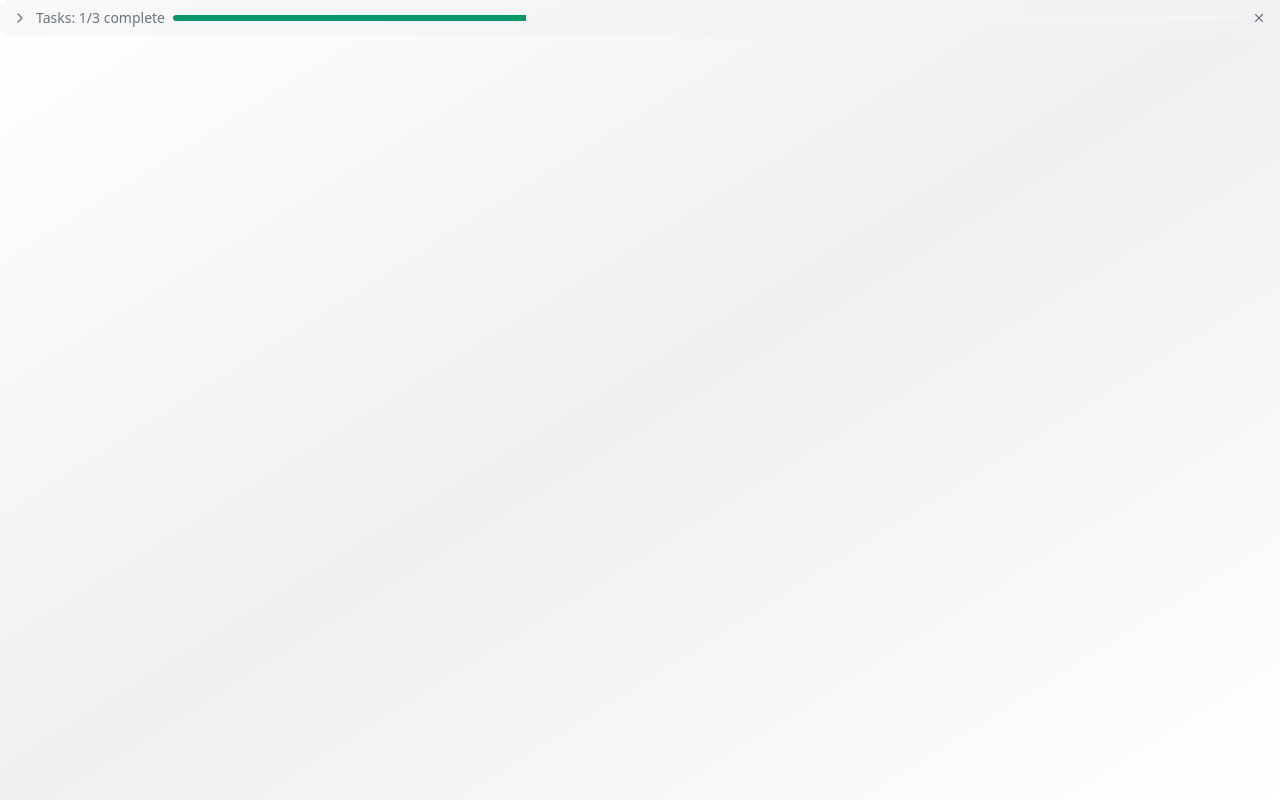
Test: SessionTodoDisplay › shows collapsed progress, expands into status groups, and omits cancelled todos
Click the button "Tasks: 1/3 complete" at (88, 18), box [12, 8, 165, 28]
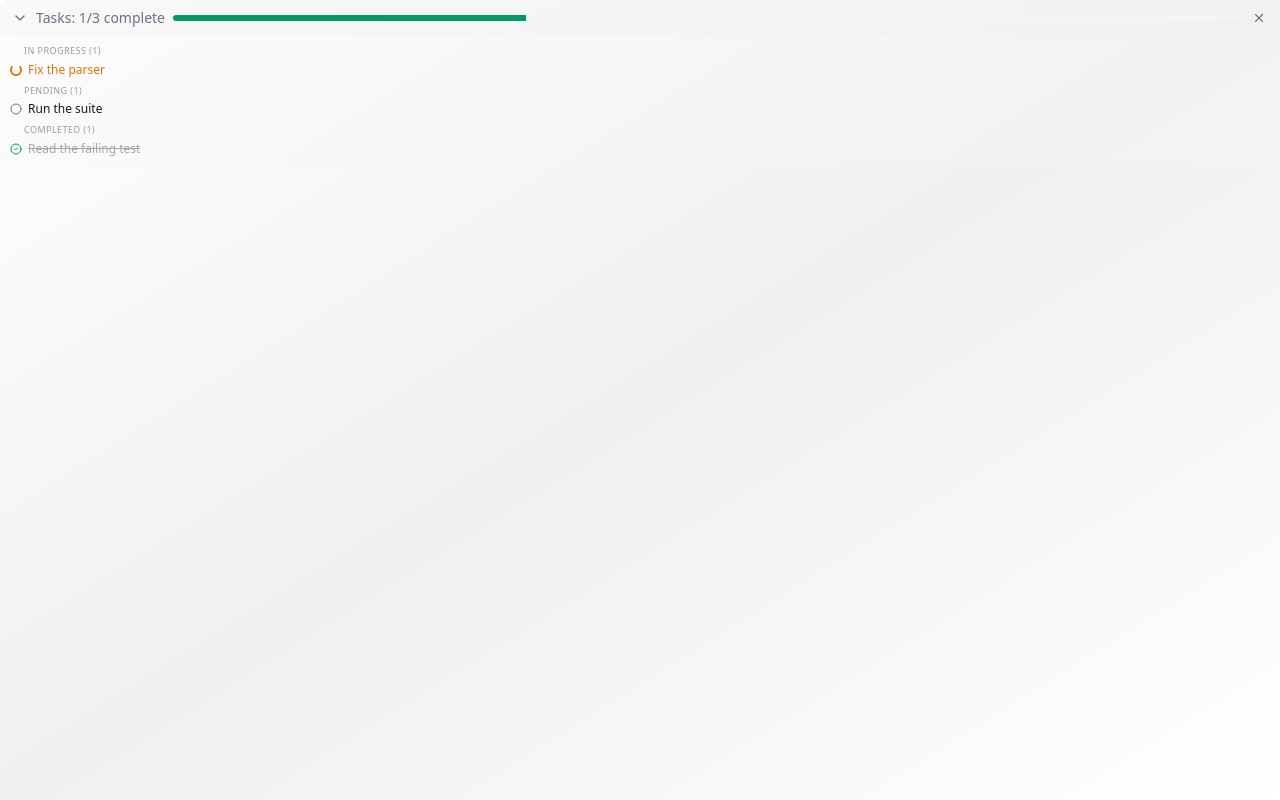
Expected: the element with test id "todo-expanded-list" does not show "Drop the workaround", [0, 36, 1279, 166]
Now the element with test id "todo-expanded-list" shows "In Progress (1)", box [0, 36, 1279, 166]
Now the element with test id "todo-expanded-list" shows "Fix the parser", box [28, 60, 105, 78]
